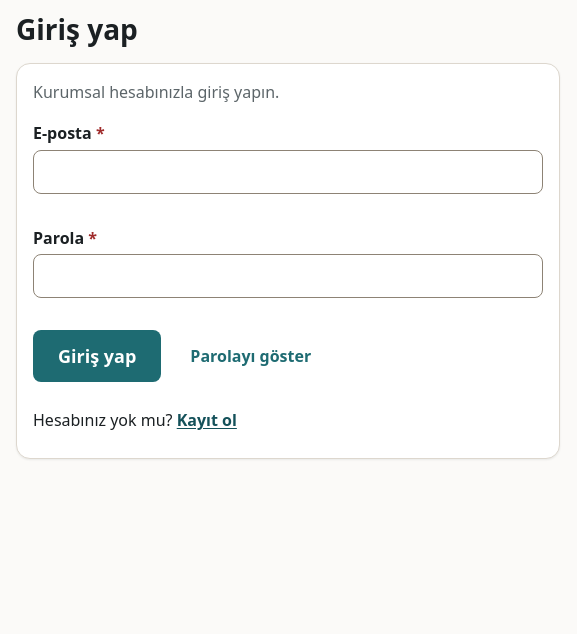
Scenario: sign-in › shows the backend's sentence when the credentials are refused
In the field labelled "E-posta *": (288, 172) [33, 150, 543, 194], type "hoca@alparslan.edu.tr"
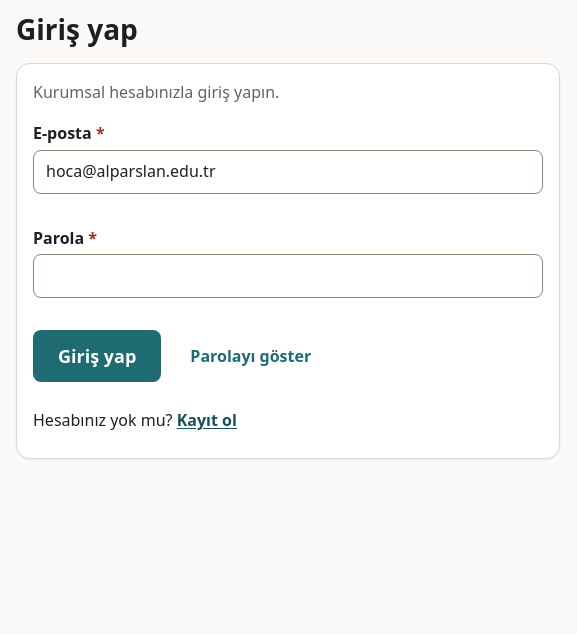
In the password field labelled "Parola *": (288, 276) [33, 254, 543, 298], type "yanlis-parola"
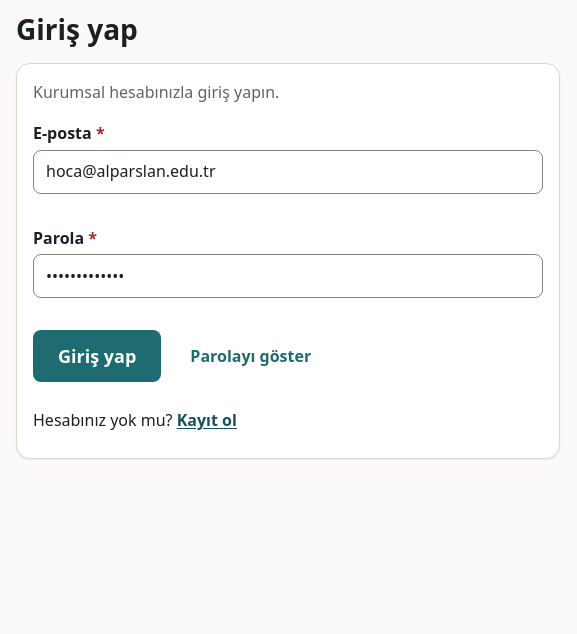
Click the button "Giriş yap": (97, 356) [33, 330, 161, 382]
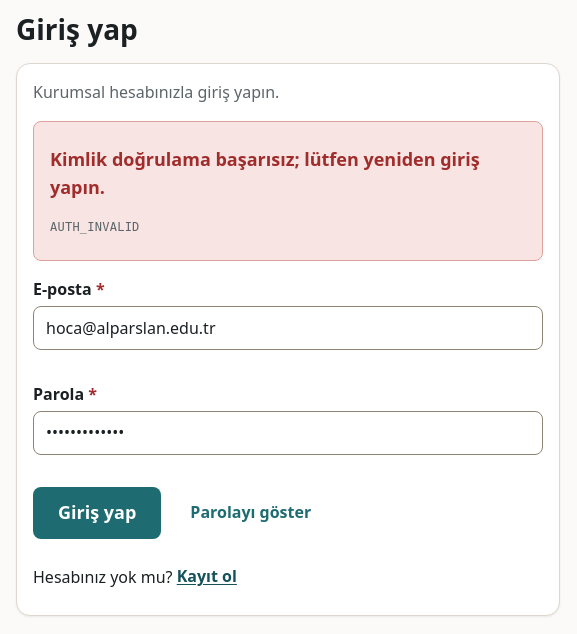
Check: the text "Kimlik doğrulama başarısız; lütfen yeniden giriş yapın." is shown, box [50, 146, 526, 202]
